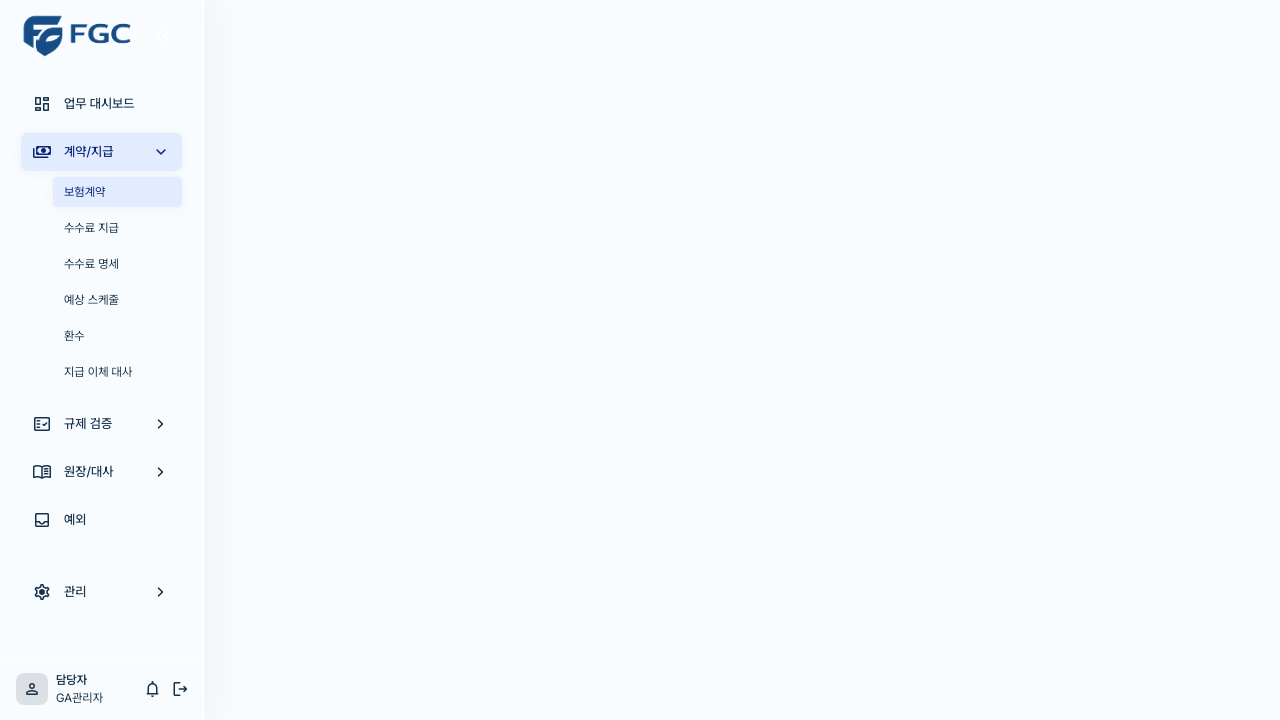
Test case: 알림 설정과 발송 이력 메뉴는 마감 알림을 받는 역할에게만 보인다 (FUN-089)
expect the button "알림 설정" is not shown: met
Click the button named "알림 설정" at (153, 688), box [139, 674, 167, 702]
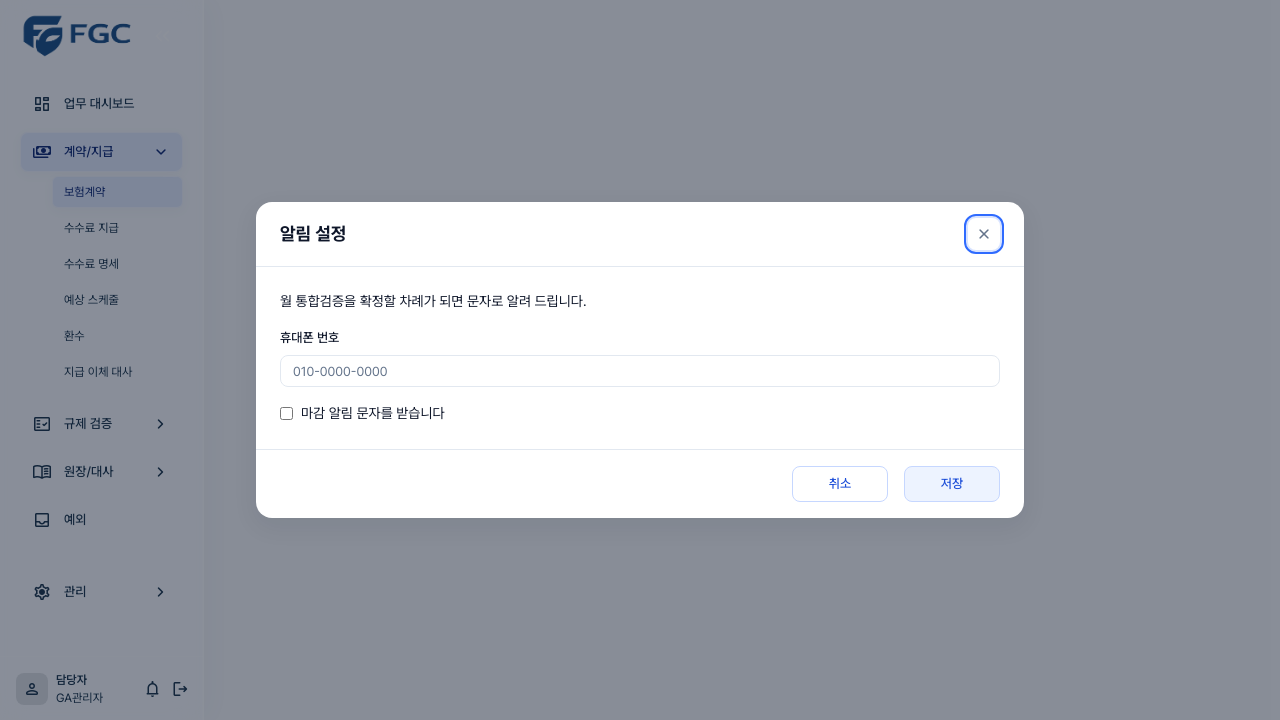
expect the dialog "알림 설정" is shown: met, box [256, 202, 1024, 518]
